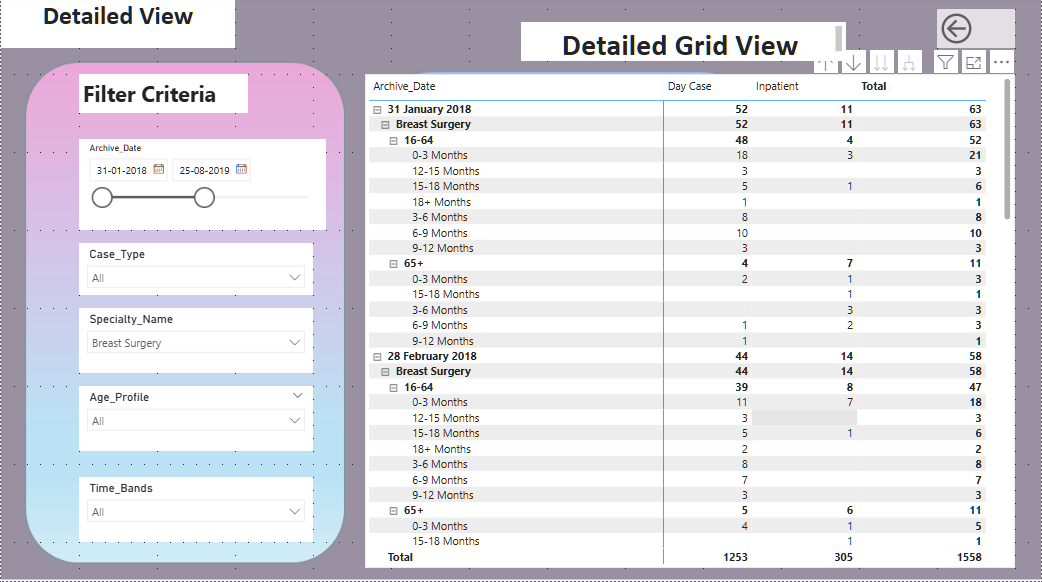

The page's visual inventory and layout, read from the dashboard file:
{"tool":"powerbi","page":{"name":"Detail","canvas":[1280,720],"ordinal":1},"visuals":[{"type":"slicer","fields":{"Values":["All_Data.Archive_Date"]},"box":[96,176,304,112],"z":0},{"type":"slicer","fields":{"Values":["All_Data.Case_Type"]},"box":[96,304,288,64],"z":1000},{"type":"slicer","fields":{"Values":["All_Data.Specialty_Name"]},"box":[96,384,288,80],"z":2000},{"type":"textbox","box":[0,0,288,64],"z":3000},{"type":"slicer","fields":{"Values":["All_Data.Age_Profile"]},"box":[96,480,288,80],"z":4000},{"type":"slicer","fields":{"Values":["All_Data.Time_Bands"]},"box":[96,592,288,80],"z":5000},{"type":"pivotTable","fields":{"Rows":["All_Data.Archive_Date","All_Data.Specialty_Name","All_Data.Age_Profile","All_Data.Time_Bands"],"Columns":["All_Data.Case_Type"],"Values":["Sum(All_Data.Total)"]},"box":[448,96,800,608],"z":6000},{"type":"textbox","box":[640,32,400,48],"z":6001},{"type":"textbox","box":[96,96,208,48],"z":6002},{"type":"actionButton","box":[1152,16,96,48],"z":6003}]}

Visuals, with their boxes on the page's 1280x720 design canvas (x1, y1, x2, y2). These are canvas units, not pixel positions in the 1042x582 screenshot, which may show the page scaled, cropped or inside an application window:
slicer - All_Data.Archive_Date: x1=96 y1=176 x2=400 y2=288
slicer - All_Data.Case_Type: x1=96 y1=304 x2=384 y2=368
slicer - All_Data.Specialty_Name: x1=96 y1=384 x2=384 y2=464
textbox: x1=0 y1=0 x2=288 y2=64
slicer - All_Data.Age_Profile: x1=96 y1=480 x2=384 y2=560
slicer - All_Data.Time_Bands: x1=96 y1=592 x2=384 y2=672
pivotTable - All_Data.Archive_Date x All_Data.Specialty_Name: x1=448 y1=96 x2=1248 y2=704
textbox: x1=640 y1=32 x2=1040 y2=80
textbox: x1=96 y1=96 x2=304 y2=144
actionButton: x1=1152 y1=16 x2=1248 y2=64
